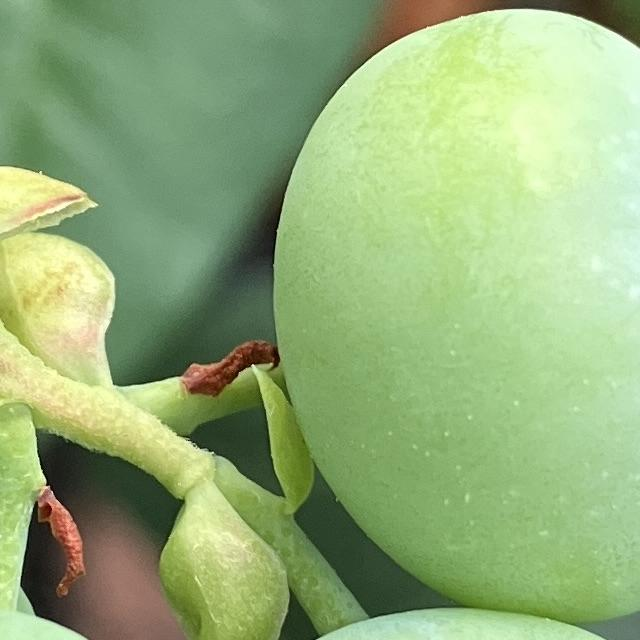Blueberries: (266, 1, 640, 621)
